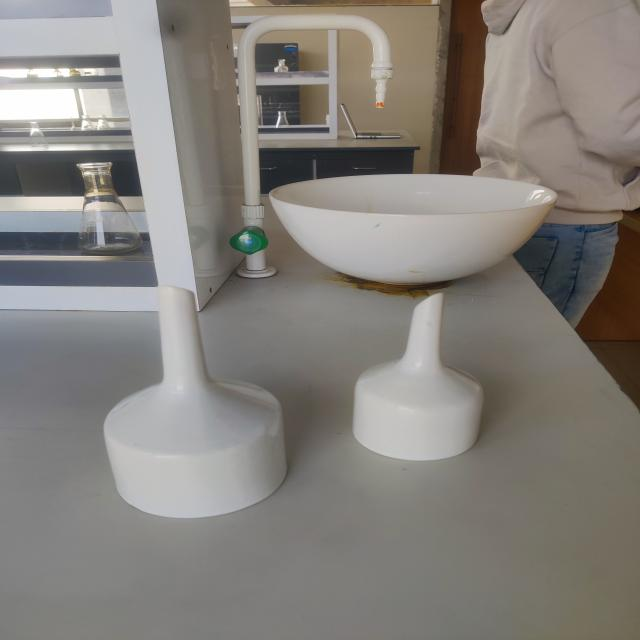Buchner_Funnel: (75, 260, 313, 542), (333, 279, 526, 483)
